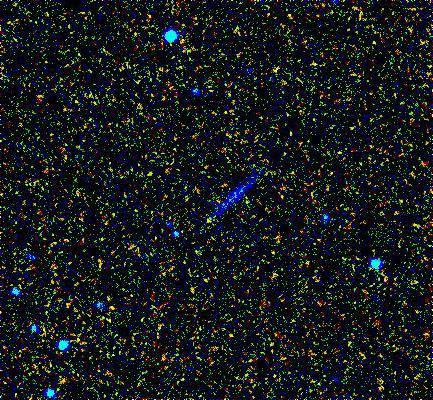star: (197, 204, 227, 234)
